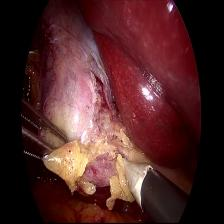Grasper: (20, 96, 70, 172)
Hook: (116, 149, 156, 205)
